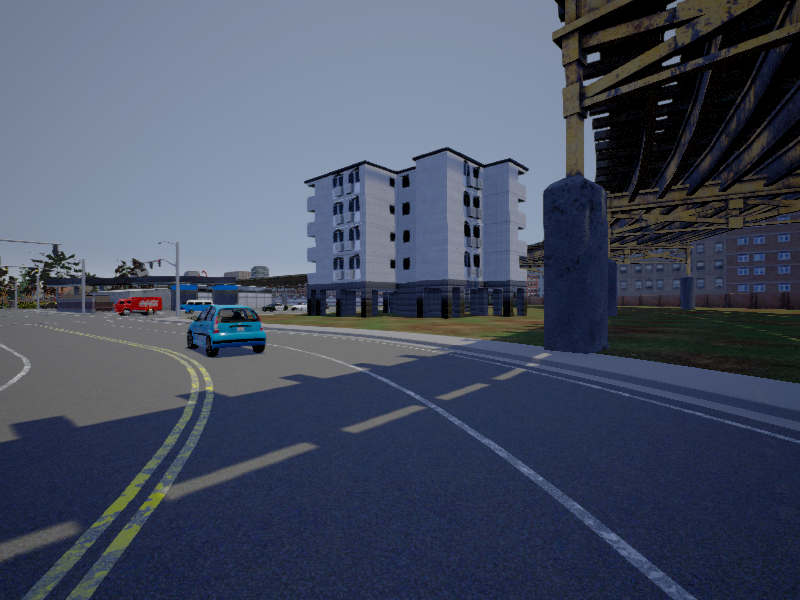Benign: (185, 308, 266, 357), (114, 297, 164, 316), (182, 298, 216, 313), (263, 303, 288, 312)
